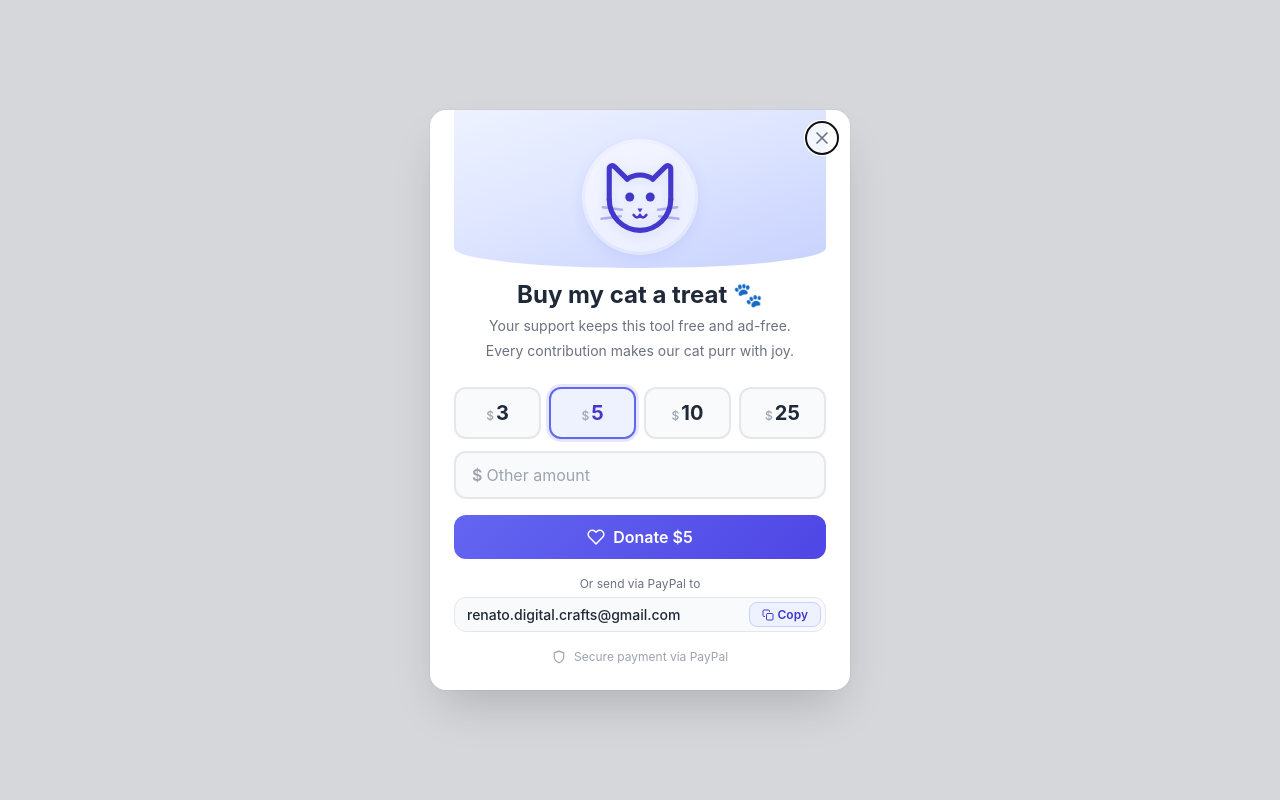
DonateModal › disables the donate button when the custom amount is empty
The image size is (1280, 800).
Click the field with placeholder "Other amount" at (647, 475), box [486,453,808,497]
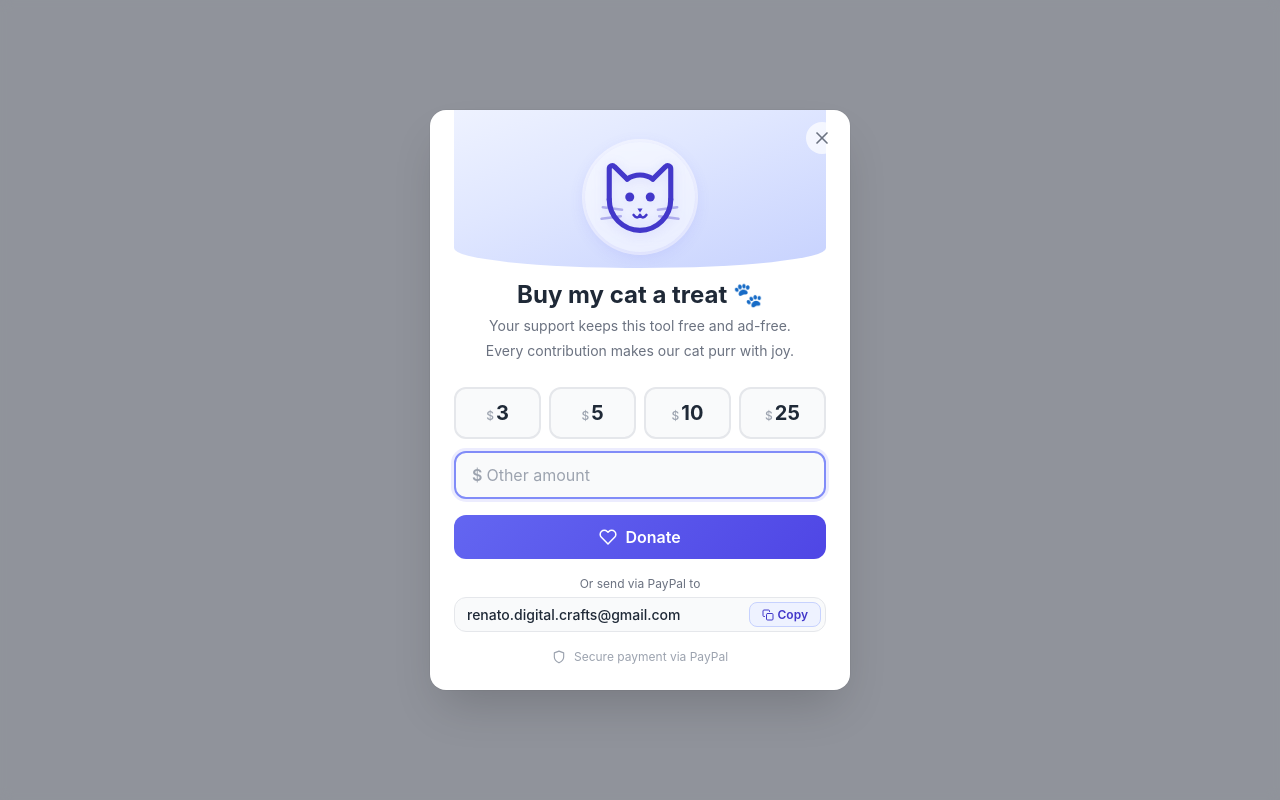
Check: the button "Donate" is disabled, box [454,515,826,559]
